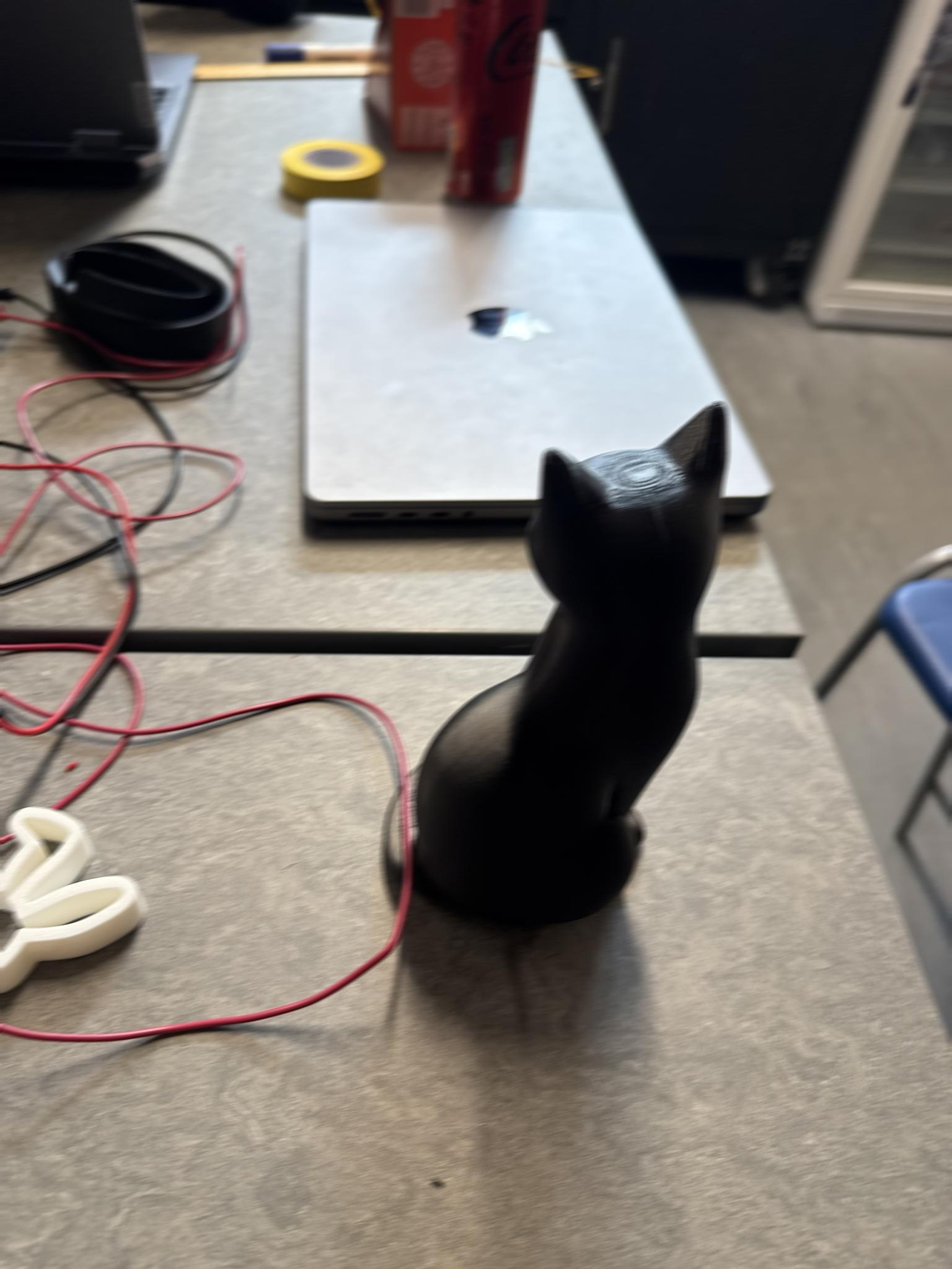cat: (412, 402, 728, 923)
